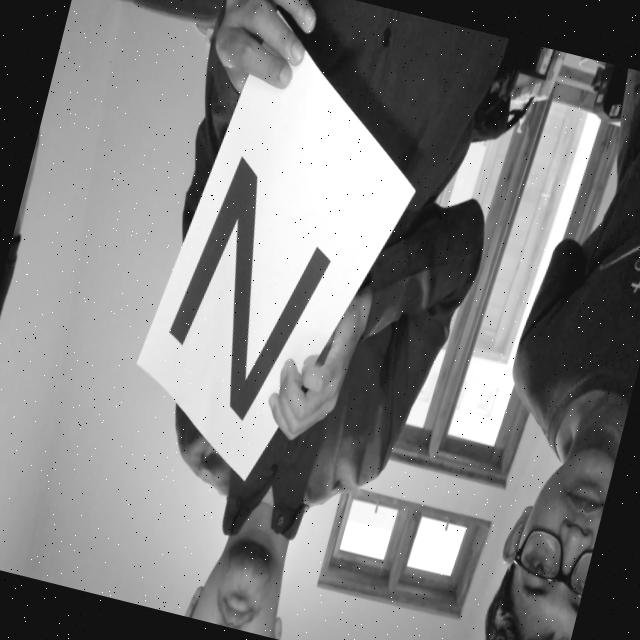n: (138, 118, 366, 450)
